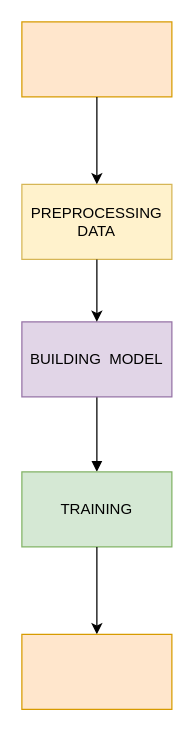
Image size: 194x731. Some labels were removed from this diagram. The shapes that lost their labels are listed below. From the top down, each one's centre as x and y in pixels, then its label:
At (x=96, y=59): "DATA COLLECTION".
At (x=96, y=671): "TESTING".
